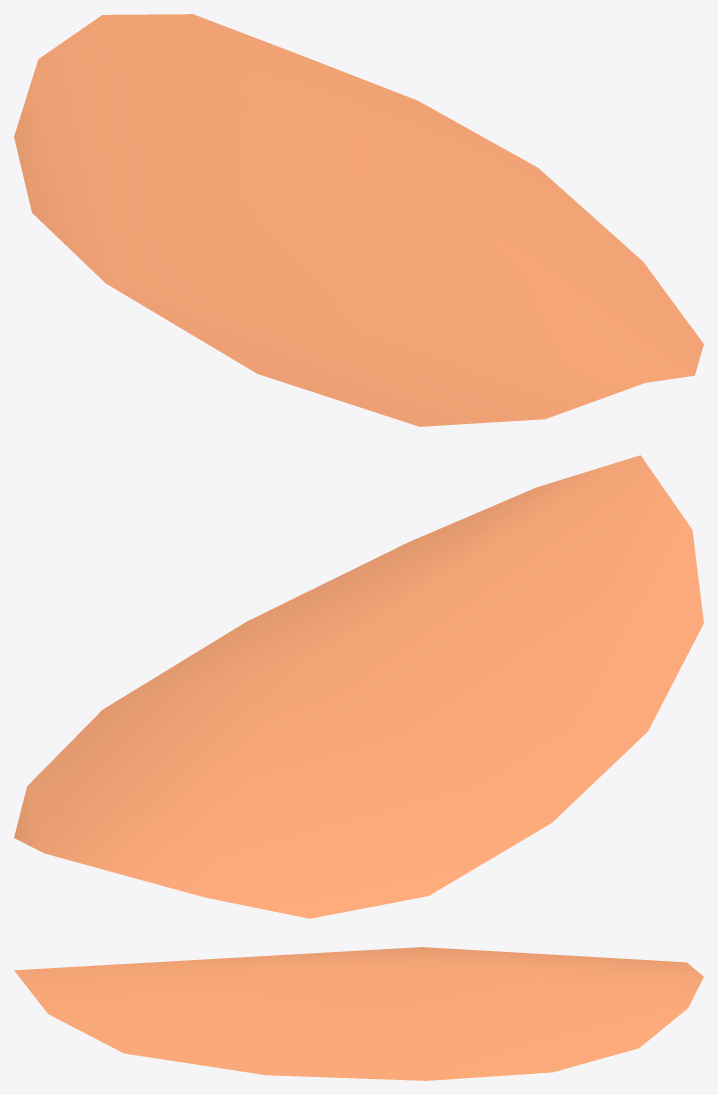
The model's file is autumn_leaf.glb.
3 renders of one model, top to bottom at view 1: azimuth 30°, elevation 25°; view 2: azimuth 150°, elevation 25°; view 3: azimuth 270°, elevation 25°, orthographic. The views are drawn at different scales.
Parts seen in each view (by area): view 1: Object_12; view 2: Object_12; view 3: Object_12.
Part boxes in pixels (<box>): Object_12: <box>14,14,703,426</box>; Object_12: <box>14,455,703,918</box>; Object_12: <box>14,947,703,1080</box>.
Size of the model in its own units: 0.0452 by 0.0101 by 0.0952.
